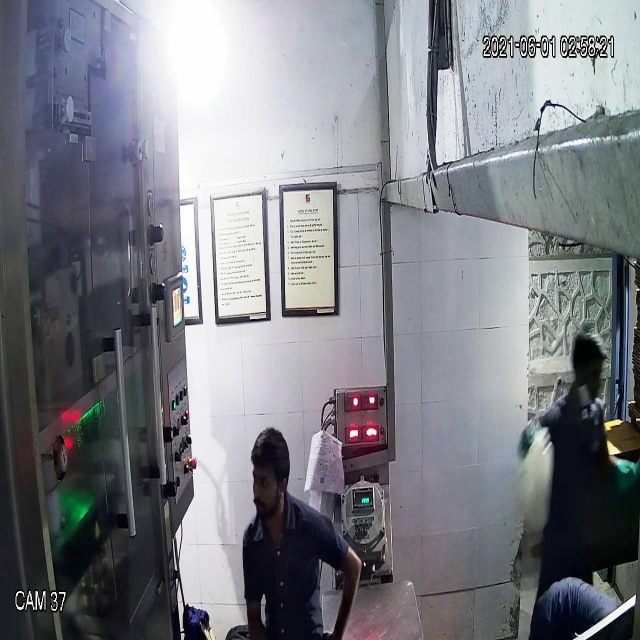Sin_gafas: (248, 468, 292, 500)
